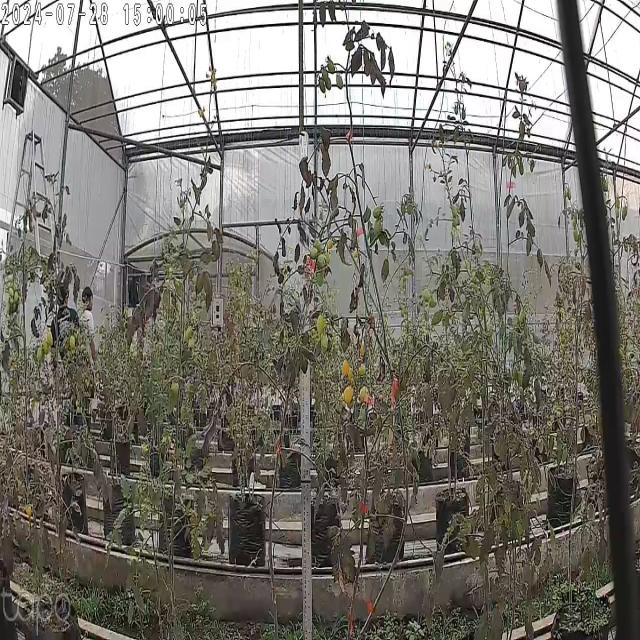fine: (343, 384, 353, 406), (342, 358, 350, 379)
unripe: (317, 313, 327, 337), (309, 247, 318, 261)
